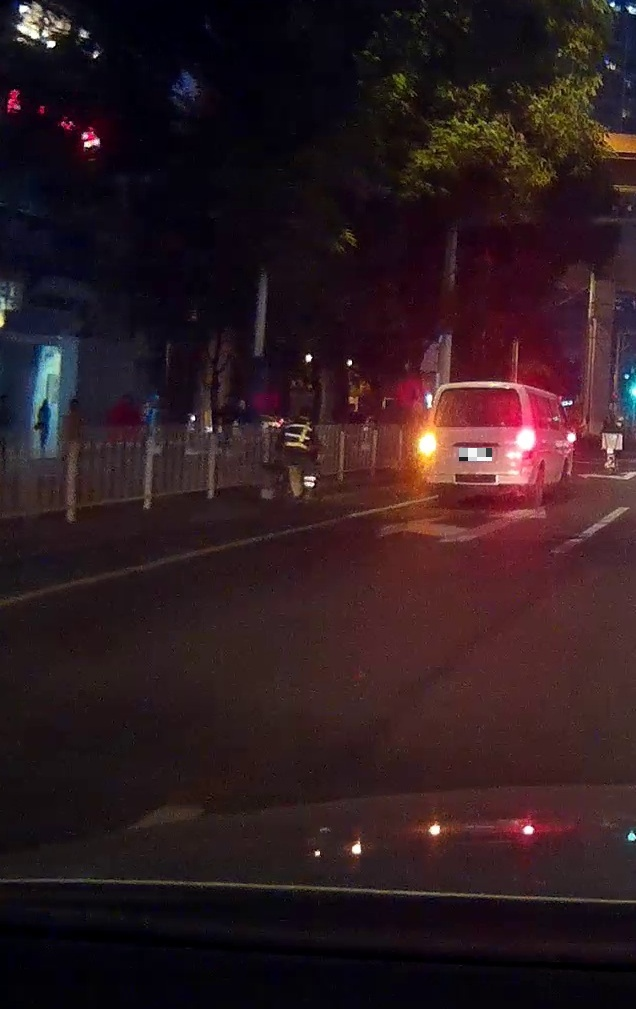L_light: (418, 431, 437, 458)
R_light: (516, 428, 536, 459)
T_light: (465, 385, 485, 389)
night-no: (417, 381, 537, 509)
plate_1: (459, 448, 492, 461)
